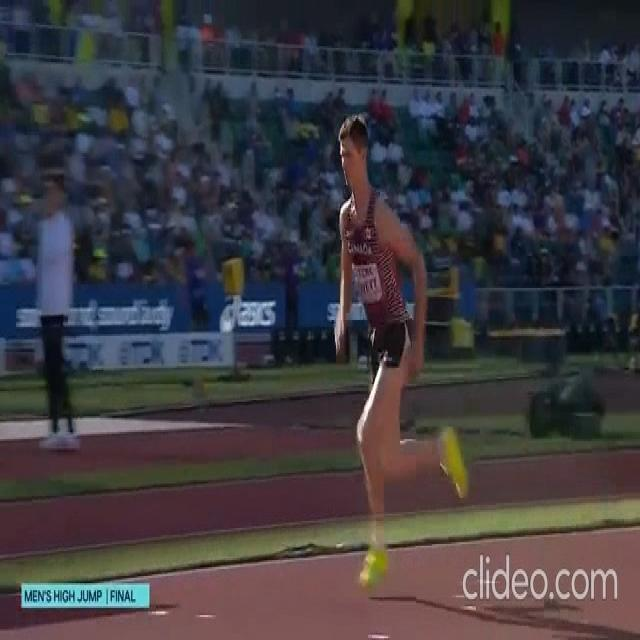run: (334, 117, 465, 579)
